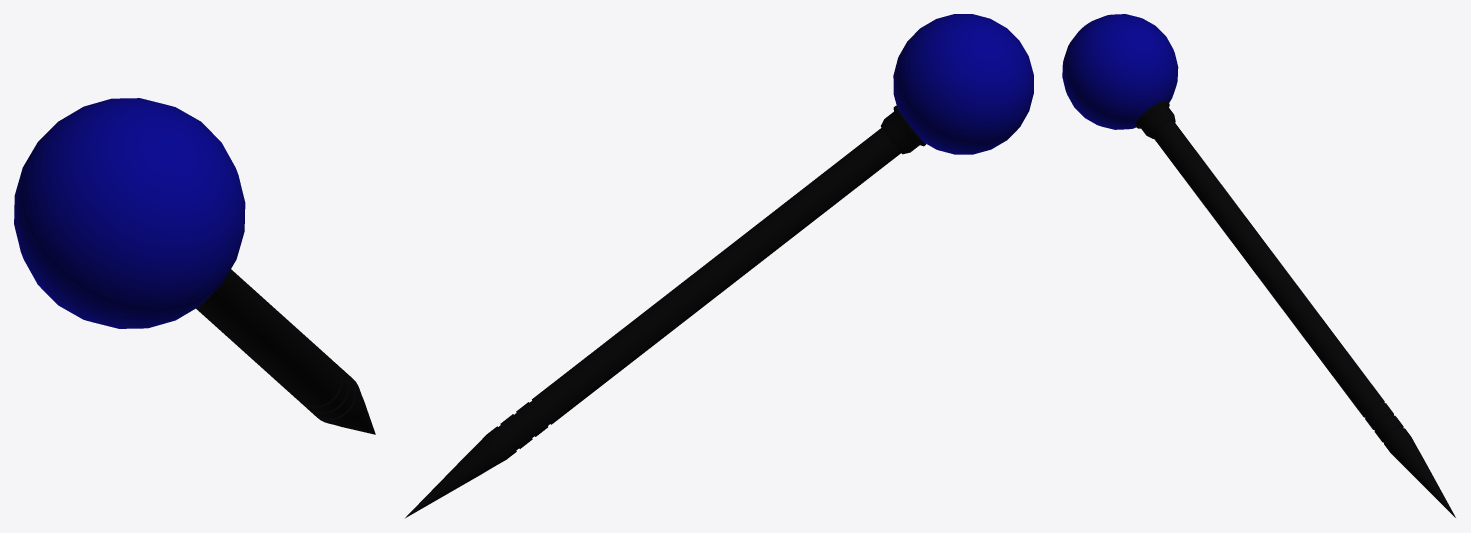
Rendered from DARKBLUE.glb.
3 views of the same model, side by side, from view 1: azimuth 30°, elevation 25°; view 2: azimuth 150°, elevation 25°; view 3: azimuth 270°, elevation 25° (orthographic). The views are drawn at different scales.
Visible parts, largest first — view 1: Sphere, Needle; view 2: Needle, Sphere, Ball_Holder; view 3: Needle, Sphere, Ball_Holder.
Boxes of the visible parts, x1,y1,x2,y2 form: Sphere: (14, 98, 245, 328); Needle: (196, 269, 375, 434); Needle: (405, 128, 900, 518); Sphere: (893, 14, 1033, 154); Ball_Holder: (881, 105, 926, 154); Needle: (1152, 120, 1455, 517); Sphere: (1062, 14, 1178, 129); Ball_Holder: (1135, 101, 1175, 138).
Size of the model in its own units: 7.45 by 7.45 by 7.45.
